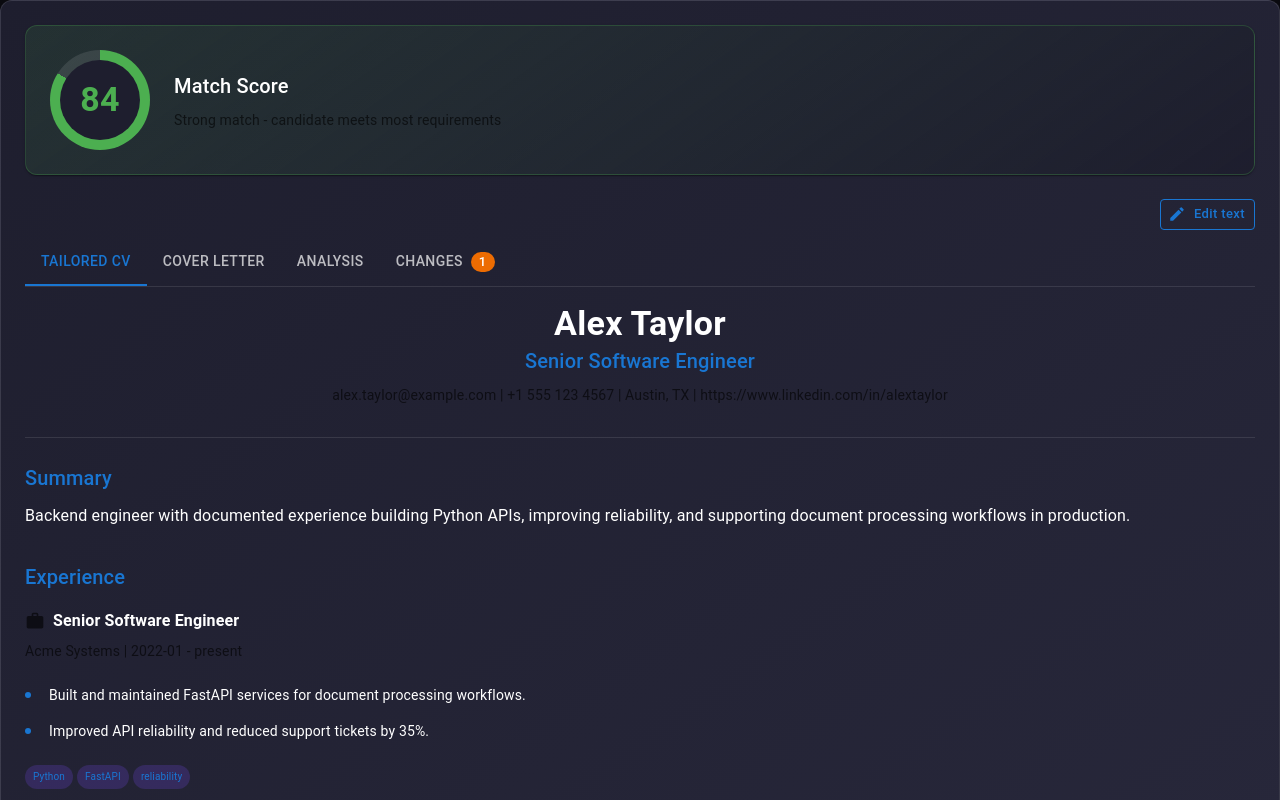
ResultsDisplay › renders real result data across tabs
Expected: the heading "Match Score" is shown, [174,74,289,98]
Expected: the heading "Alex Taylor" is shown, [554,303,726,343]
Click the tab "Cover Letter": (214,262) [147,238,281,286]
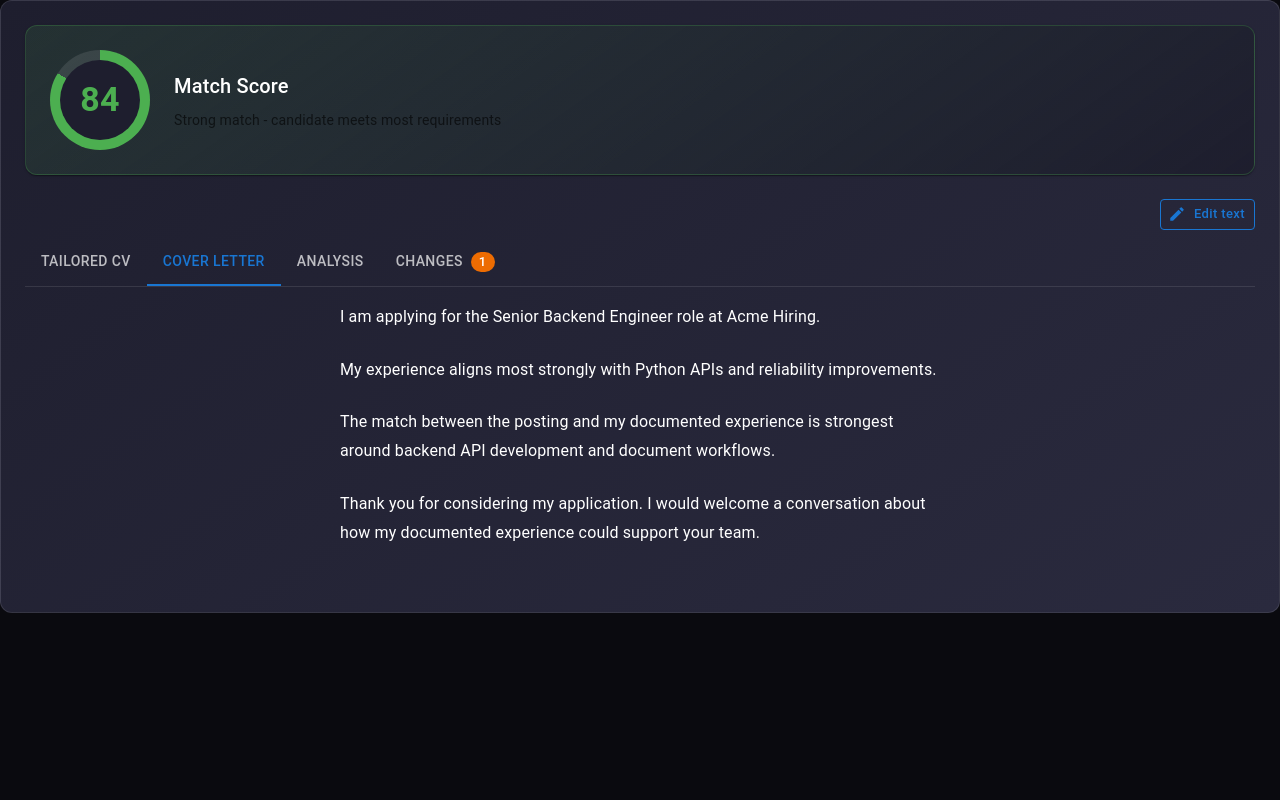
Expected: the text "I am applying for the Senior Backend Engineer role" is shown, [340,307,820,326]
Click the tab "Analysis": (330,262) [281,238,380,286]
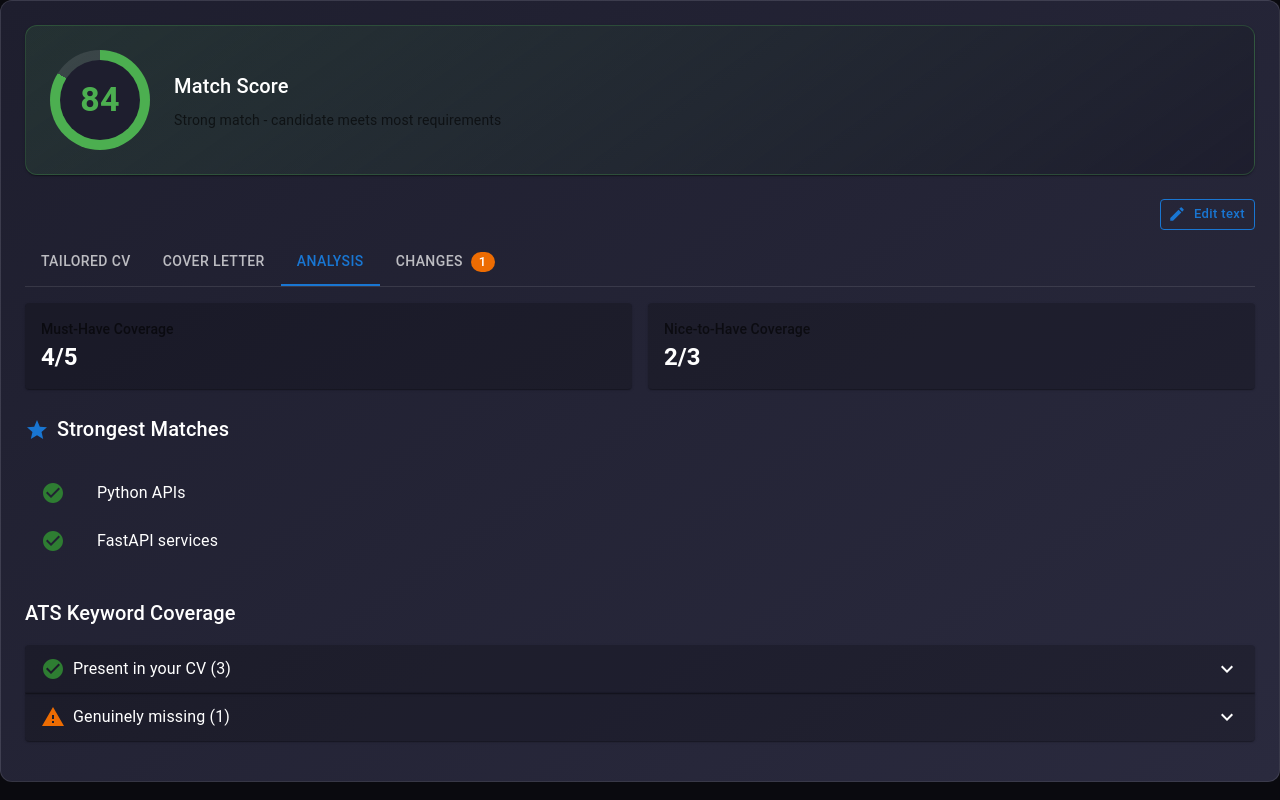
Expected: the heading "ATS Keyword Coverage" is shown, [25,601,236,625]
Click the tab "Changes 1": (445,262) [380,238,511,286]
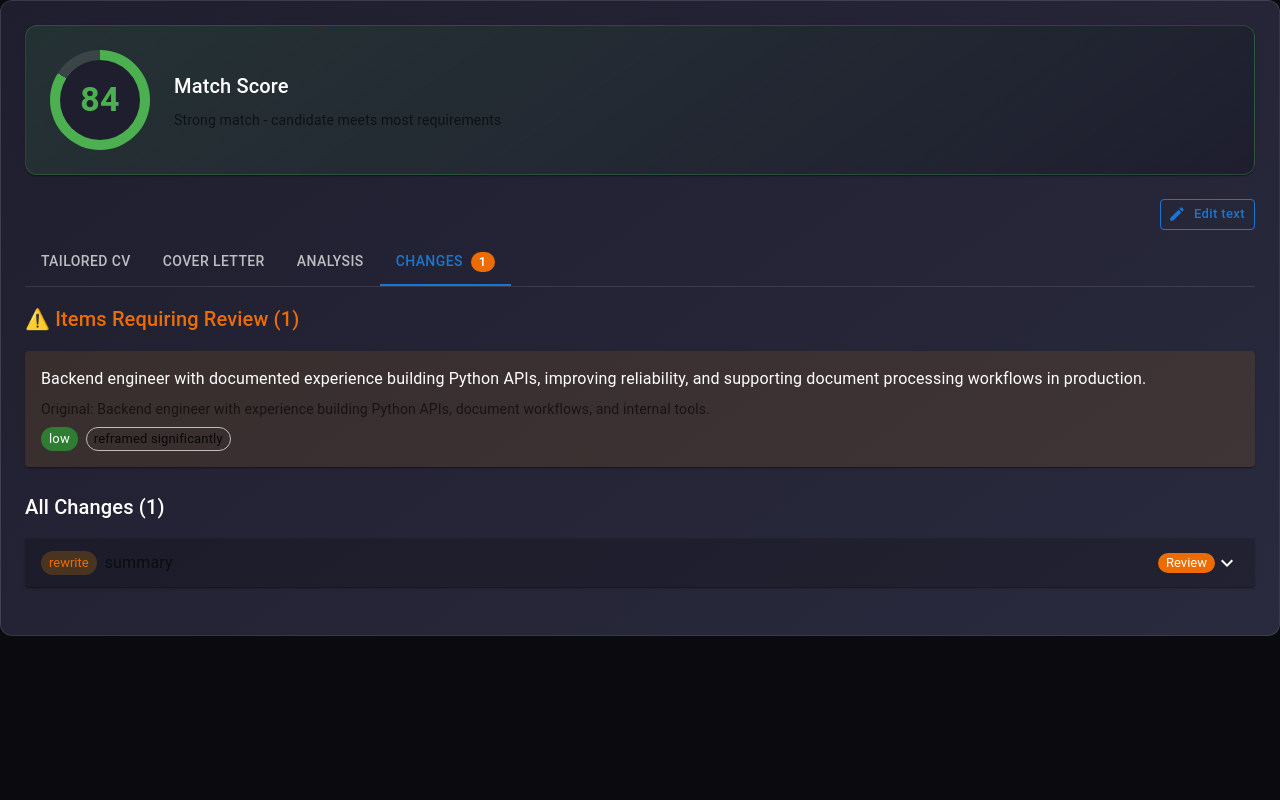
Expected: the heading "All Changes (1)" is shown, [25,495,165,519]
